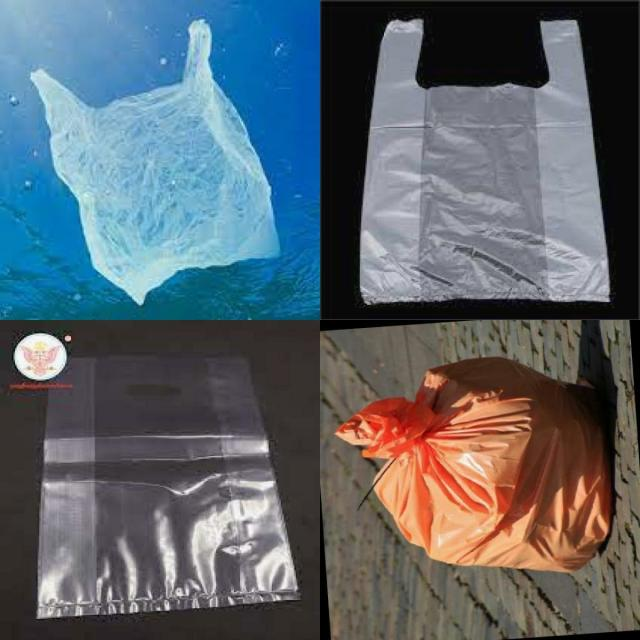Single-layer Plastic: (360, 19, 610, 304), (30, 20, 279, 305), (38, 355, 298, 618), (336, 358, 611, 572)
